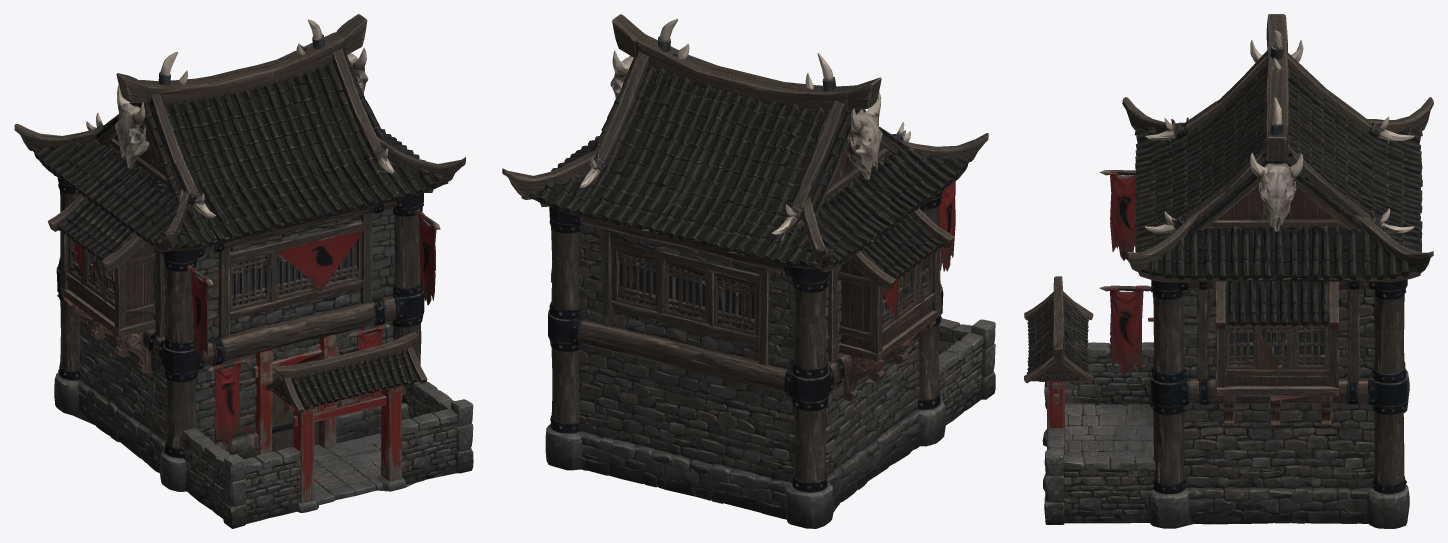
The model's file is house_stone_d.glb.
3 renders of one model, left to right at view 1: azimuth 30°, elevation 25°; view 2: azimuth 150°, elevation 25°; view 3: azimuth 270°, elevation 25°, orthographic. The views are drawn at different scales.
Visible parts, largest first — view 1: house_stone_d; view 2: house_stone_d; view 3: house_stone_d.
Part boxes in pixels (box(x1,y1,x2,y2)): house_stone_d: box(14, 14, 473, 528); house_stone_d: box(502, 14, 995, 528); house_stone_d: box(1024, 14, 1433, 528).
Size of the model in its own units: 7.64 by 8.5 by 7.89.
Materials: 1 (1 with a texture image).
